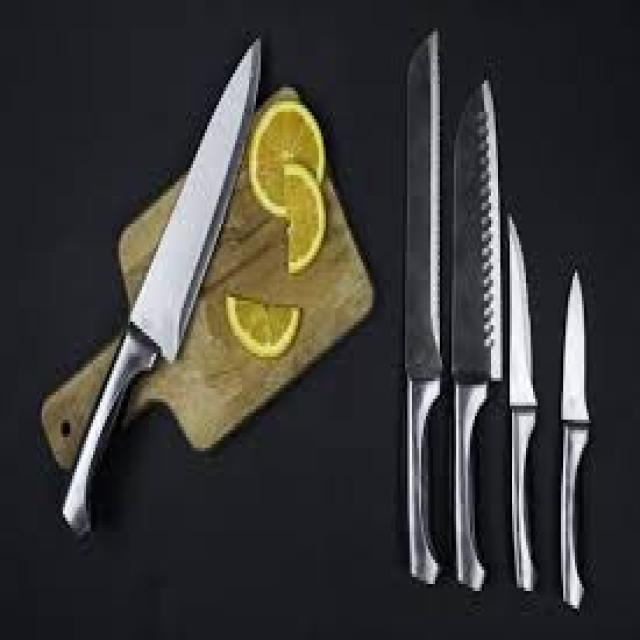Knife: (63, 38, 258, 535), (454, 80, 500, 588), (405, 31, 442, 584), (507, 217, 538, 591), (559, 269, 589, 609)
